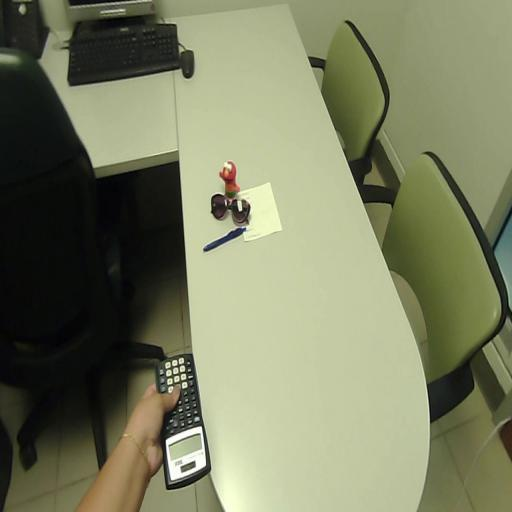pen: (203, 228, 246, 252)
